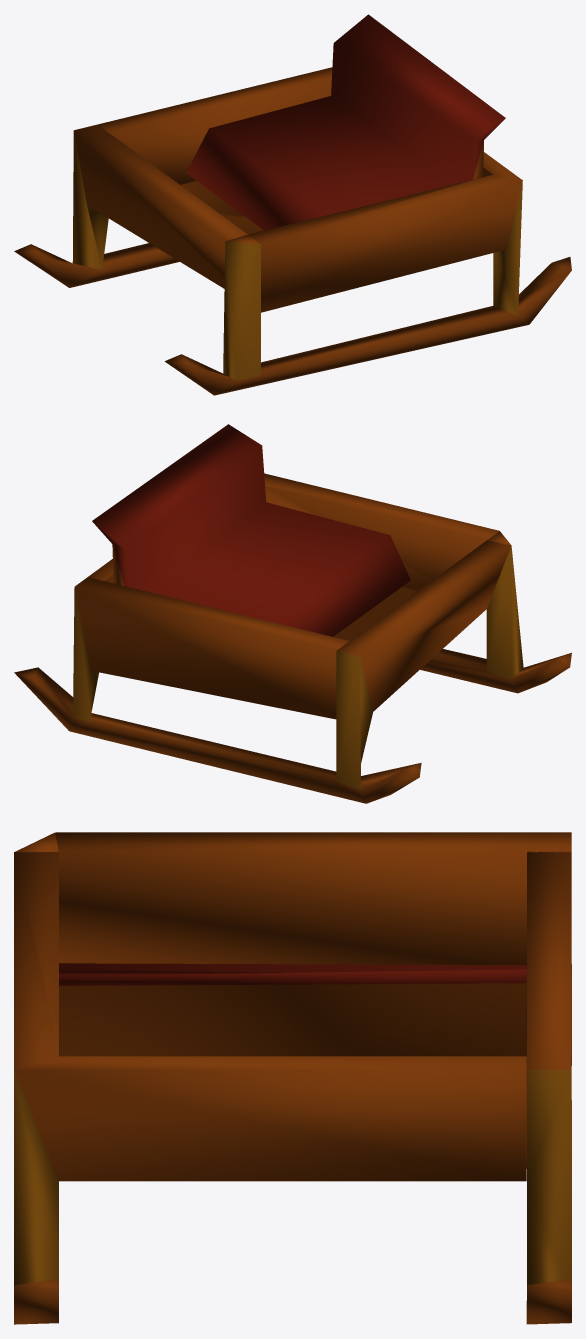
Rendered from Sledge.fbx.
3 views of the same model, one above another, from view 1: azimuth 30°, elevation 25°; view 2: azimuth 150°, elevation 25°; view 3: azimuth 270°, elevation 25° (orthographic). The views are drawn at different scales.
Visible parts, largest first — view 1: Sledge; view 2: Sledge; view 3: Sledge.
Boxes of the visible parts, x1,y1,x2,y2 form: Sledge: (14,14,571,395); Sledge: (14,424,571,803); Sledge: (14,832,571,1324).
Bounding box in the file's own units: 876 × 419 × 611.
